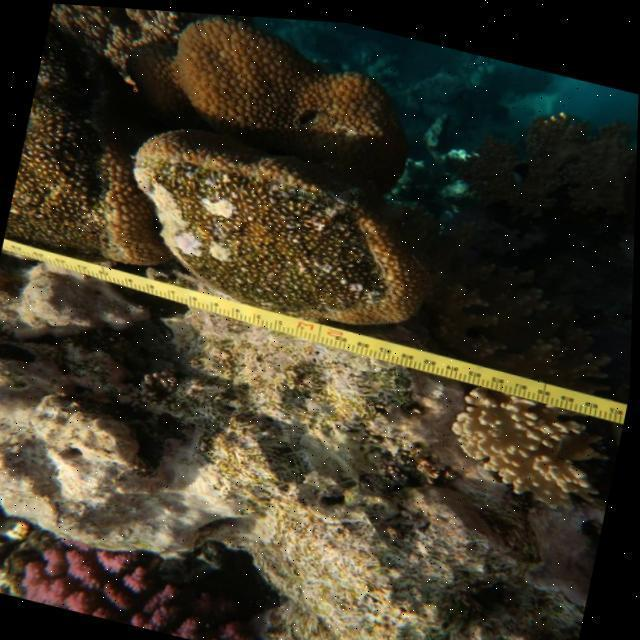Bleached Coral: (434, 366, 617, 516)
Healthy Coral: (120, 121, 440, 354), (126, 7, 410, 180), (9, 52, 172, 274), (13, 521, 274, 640)
